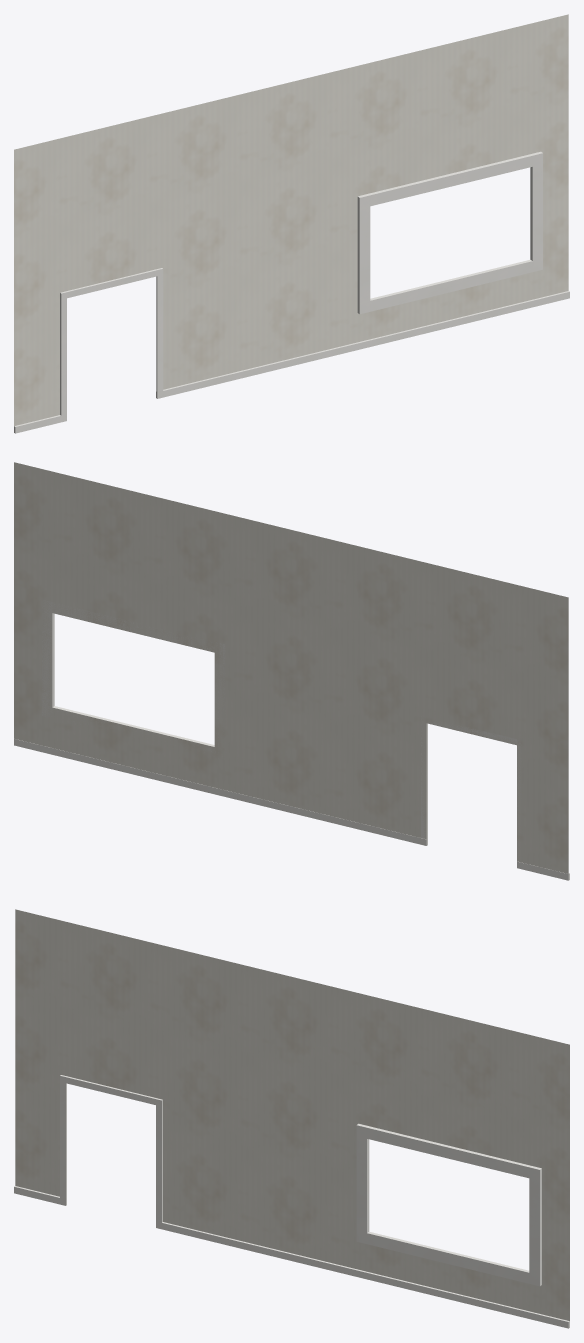
3 renders of one model, top to bottom at view 1: azimuth 30°, elevation 25°; view 2: azimuth 150°, elevation 25°; view 3: azimuth 330°, elevation 25°, orthographic.
Visible parts, largest first — view 1: jx_wm_12_eb0fc054; view 2: jx_wm_12_eb0fc054; view 3: jx_wm_12_eb0fc054.
Boxes of the visible parts, x1=… form: jx_wm_12_eb0fc054: x1=14, y1=14, x2=569, y2=433; jx_wm_12_eb0fc054: x1=14, y1=462, x2=569, y2=880; jx_wm_12_eb0fc054: x1=14, y1=909, x2=569, y2=1328.
Size of the model in its own units: 12.3 by 6 by 0.086.
2 materials, 2 textured.
